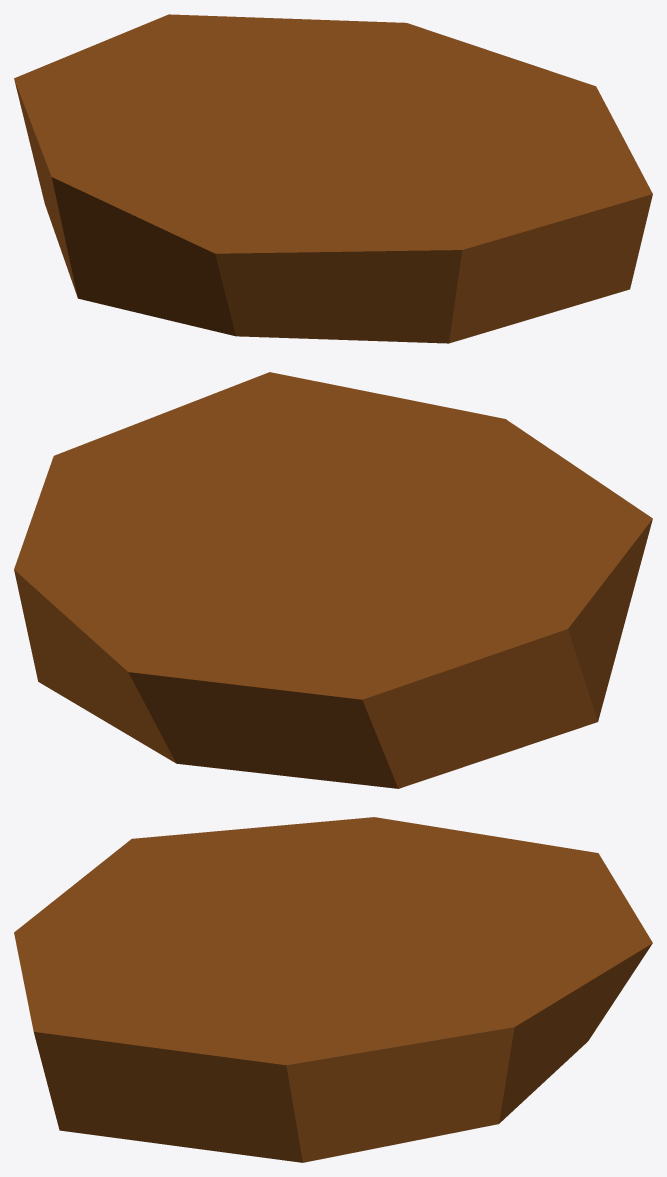
Rendered from HardRock_56.fbx.
3 views of the same model, one above another, from view 1: azimuth 30°, elevation 25°; view 2: azimuth 150°, elevation 25°; view 3: azimuth 270°, elevation 25° (orthographic). The views are drawn at different scales.
Parts seen in each view (by area): view 1: HardRock_56; view 2: HardRock_56; view 3: HardRock_56.
Part boxes in pixels (<box>): HardRock_56: <box>14,14,652,343</box>; HardRock_56: <box>14,372,652,788</box>; HardRock_56: <box>14,817,652,1162</box>.
Bounding box in the file's own units: 169 × 33.02 × 184.
